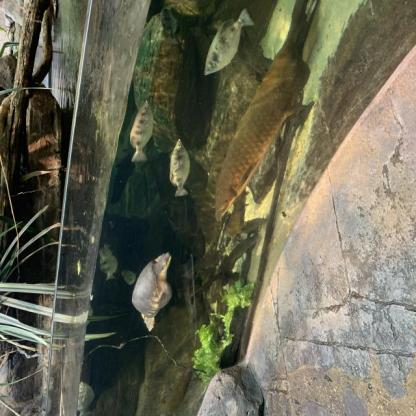fish: (213, 0, 315, 226), (204, 8, 256, 76), (128, 100, 154, 163), (169, 138, 192, 198), (100, 245, 118, 281)
